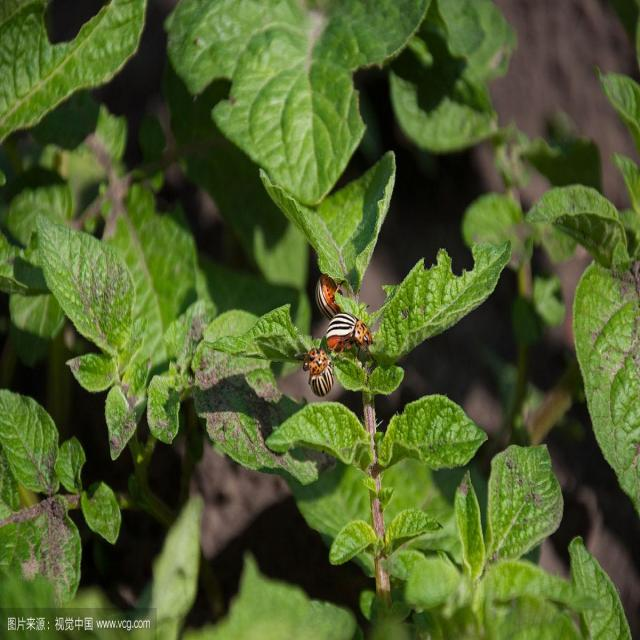ShuCaiHuaBanChong-Grown-: (319, 308, 384, 362), (305, 347, 351, 401), (312, 269, 358, 319)
